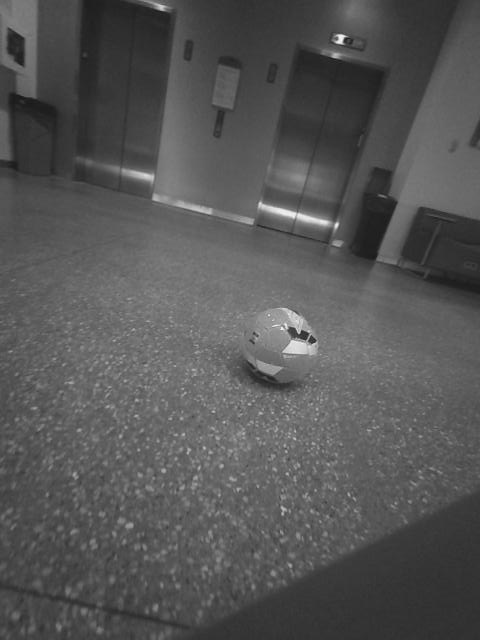ball: (204, 240, 249, 281)
